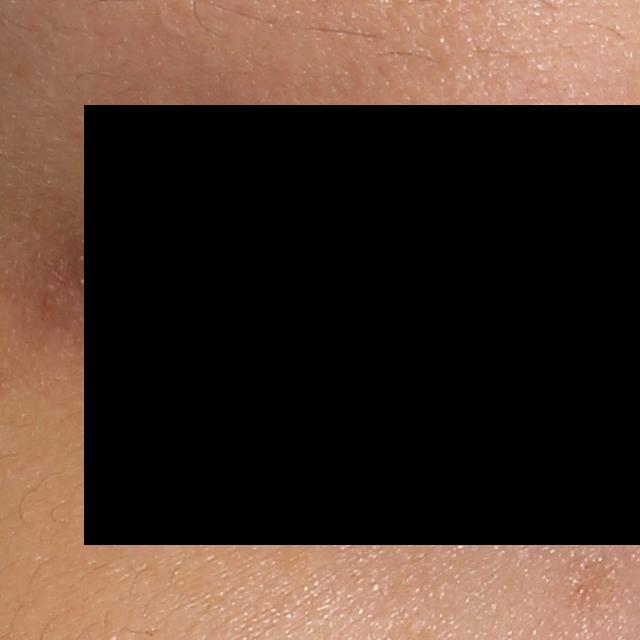melasma: (562, 556, 614, 621)
